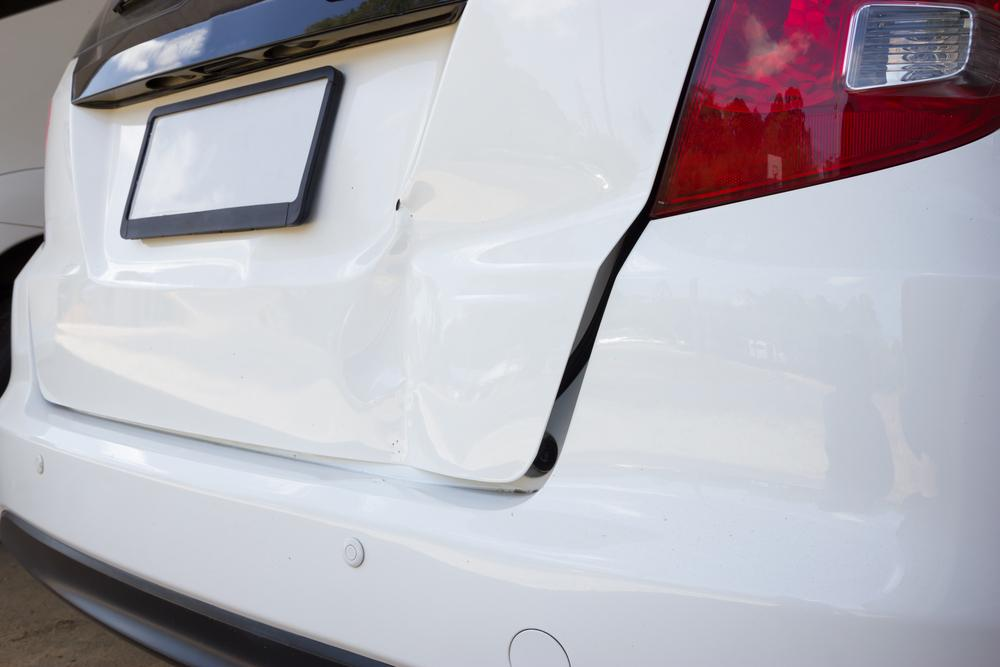dent: (326, 182, 454, 457)
